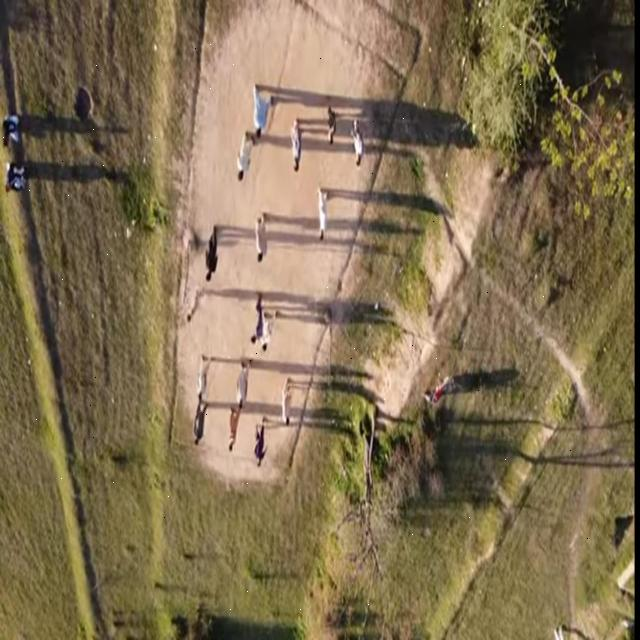humans: (247, 81, 277, 148), (202, 222, 222, 290), (233, 352, 254, 412), (251, 414, 271, 472), (0, 109, 23, 158), (348, 113, 367, 172), (279, 369, 296, 433), (290, 114, 307, 178), (191, 394, 210, 451), (224, 412, 247, 459), (248, 292, 266, 348), (259, 304, 280, 352), (196, 351, 214, 404), (4, 162, 30, 198), (253, 208, 269, 266), (236, 130, 252, 187), (185, 288, 206, 330), (324, 99, 340, 151), (317, 189, 330, 249)
